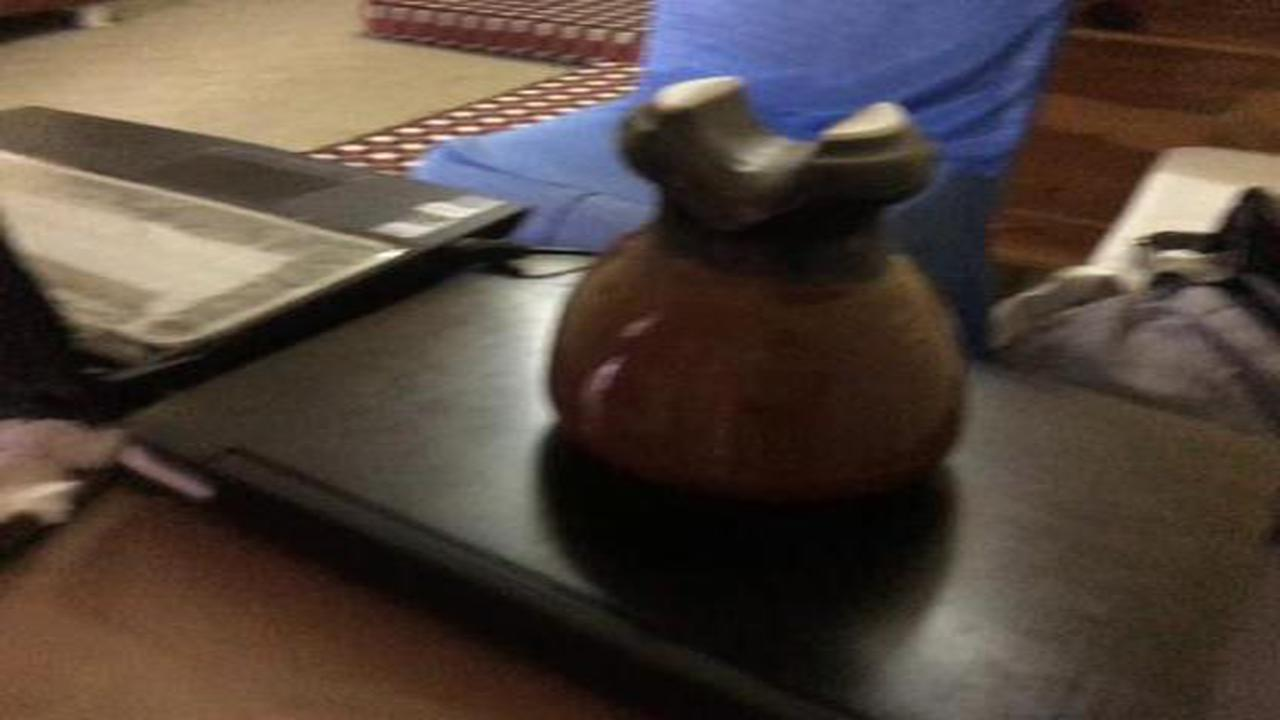insulator_pin: (536, 59, 994, 513)
